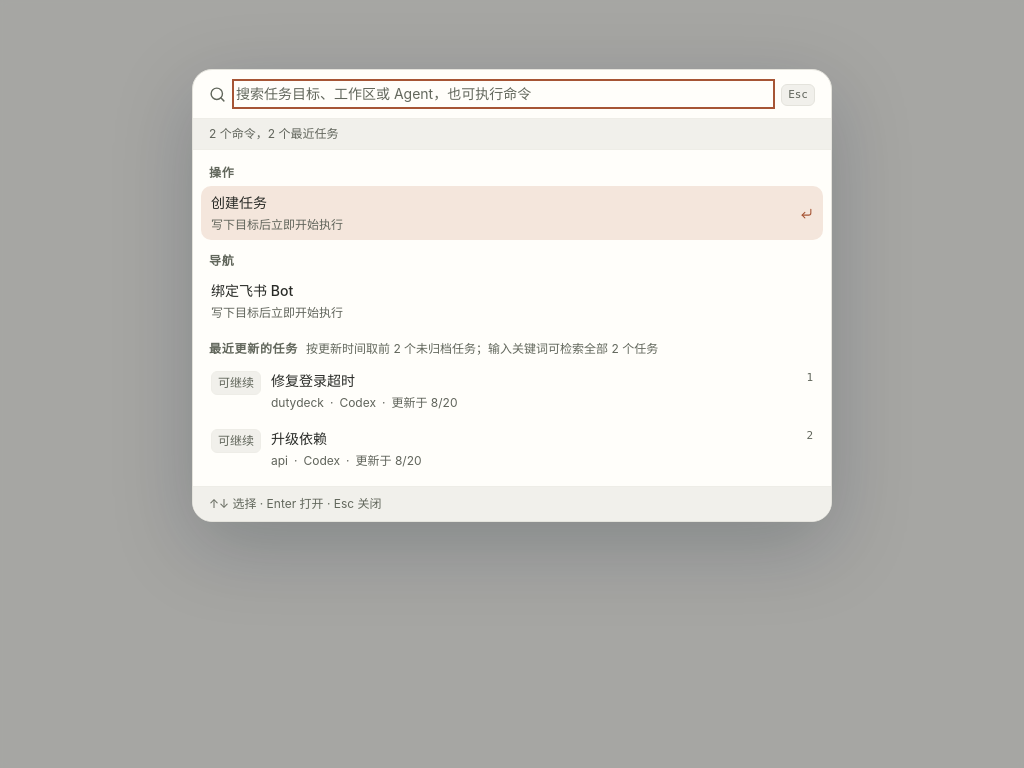
it: CommandPalette 开合与筛选 › 输入关键词同时筛选任务与命令，中文按子串命中
Type "登录" into the dropdown named "搜索任务与命令".
click(504, 94); type("登录")  # box [236,83,771,105]
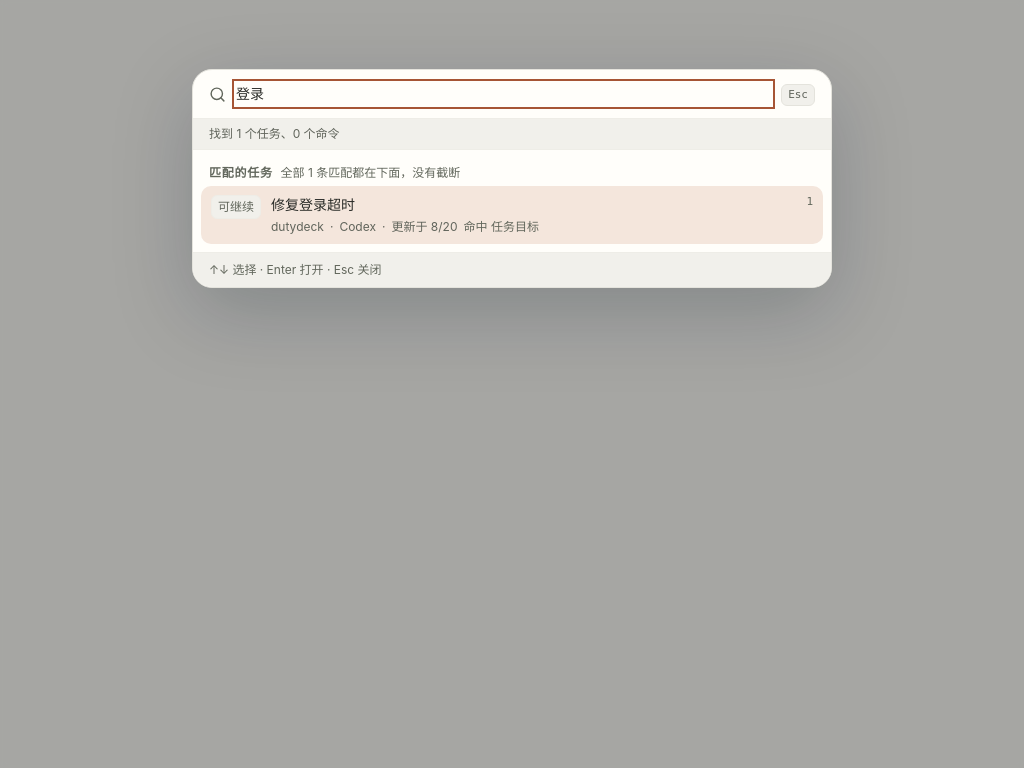
expect the option "可继续 修复登录超时 dutydeck · Codex · 更新于 8/20 命中 任务目标 1" is shown: met, box [201,186,823,244]
expect the option "升级依赖" is gone: met
expect the option "创建任务" is gone: met
